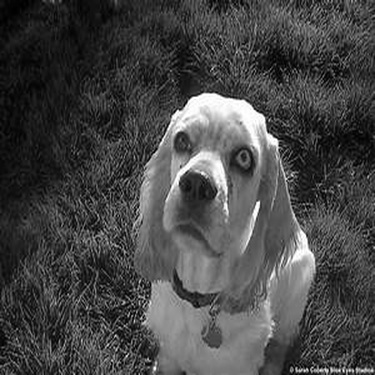dog: (117, 83, 322, 370)
